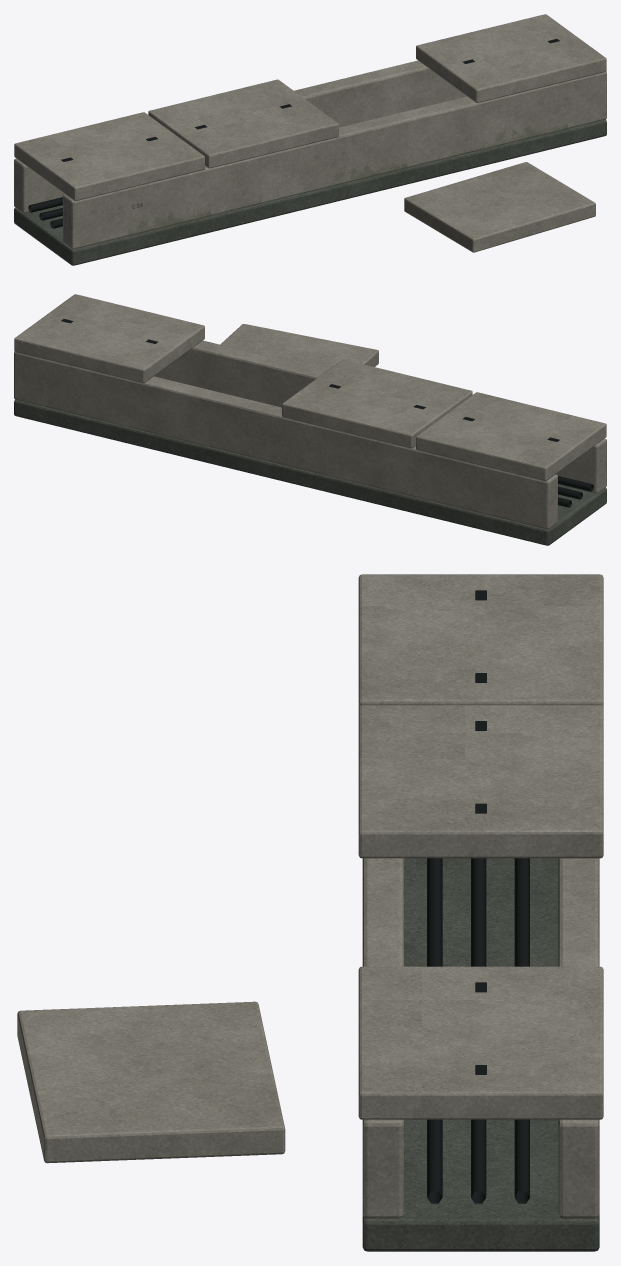
The picture shows the model from 3 angles, top to bottom: view 1: azimuth 30°, elevation 25°; view 2: azimuth 150°, elevation 25°; view 3: azimuth 270°, elevation 25°; orthographic projection. The views are drawn at different scales.
Parts seen in each view (by area): view 1: TF3_KR_R04; view 2: TF3_KR_R04; view 3: TF3_KR_R04.
Part boxes in pixels (box(x1,y1,x2,y2)): TF3_KR_R04: box(14, 14, 606, 265); TF3_KR_R04: box(14, 294, 606, 545); TF3_KR_R04: box(17, 574, 603, 1251).
Size of the model in its own units: 2.42 by 0.342 by 1.14.
Materials: 5 (3 with a texture image).
